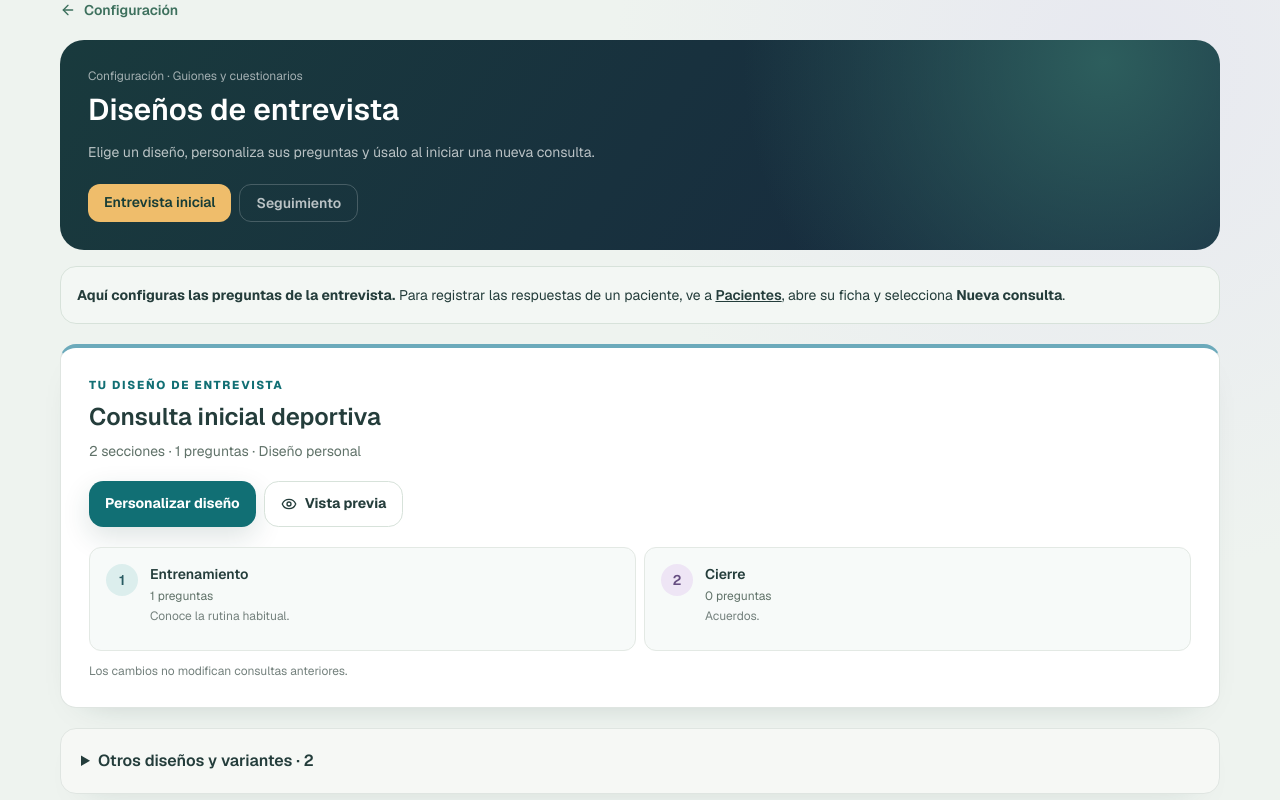
Test: catálogo profesional de plantillas › starts with the real section flow and opens the same question component in preview
Expected: the heading "Diseños de entrevista" is shown, [88,90,399,129]
Expected: the element named "Dónde registrar los datos del paciente" shows "Nueva consulta", [956,286,1062,304]
Step 1. Click the button "Vista previa" → (334, 504), box [264,481,403,527]
(page scrolled)
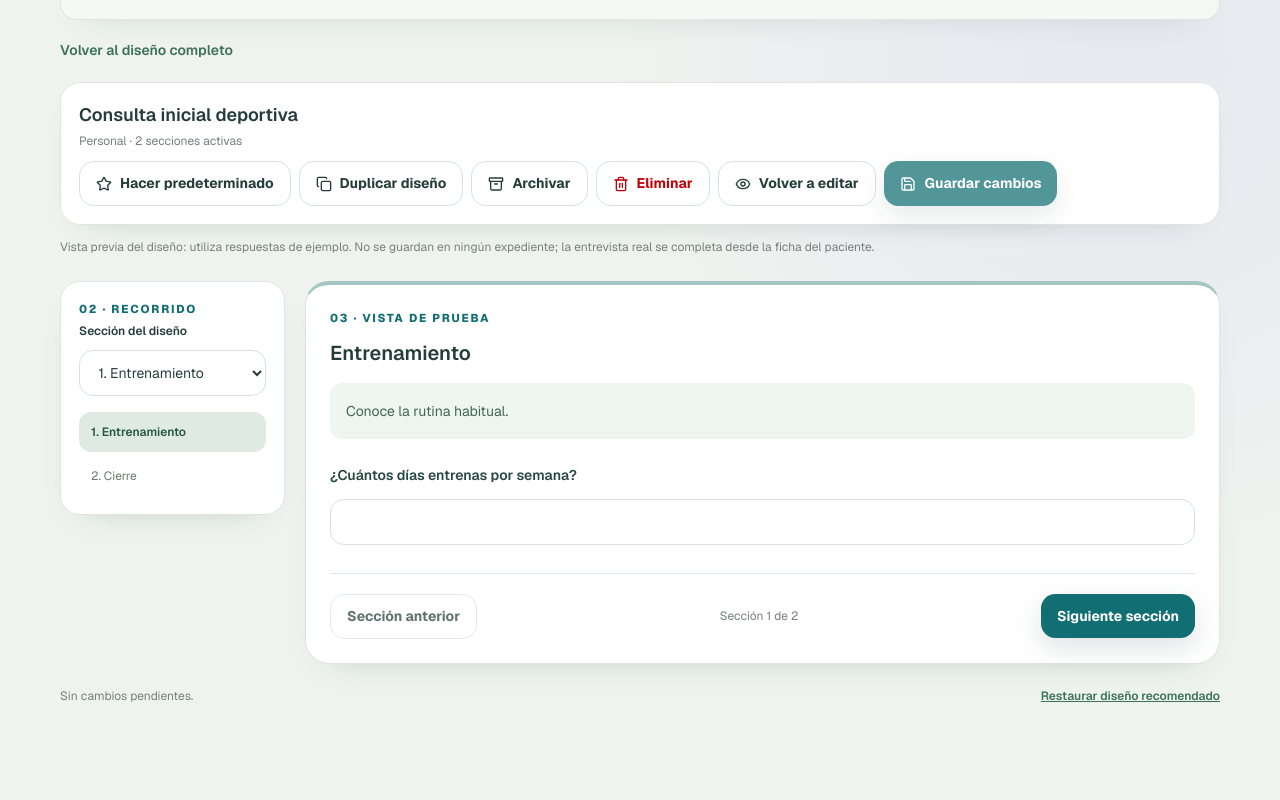
Expected: the text "Vista previa del diseño: utiliza respuestas de ejemplo" is shown, [60,239,874,255]
Step 2. Type "3" into the number field labelled "¿Cuántos días entrenas por semana?" → (762, 522), box [330,499,1195,544]
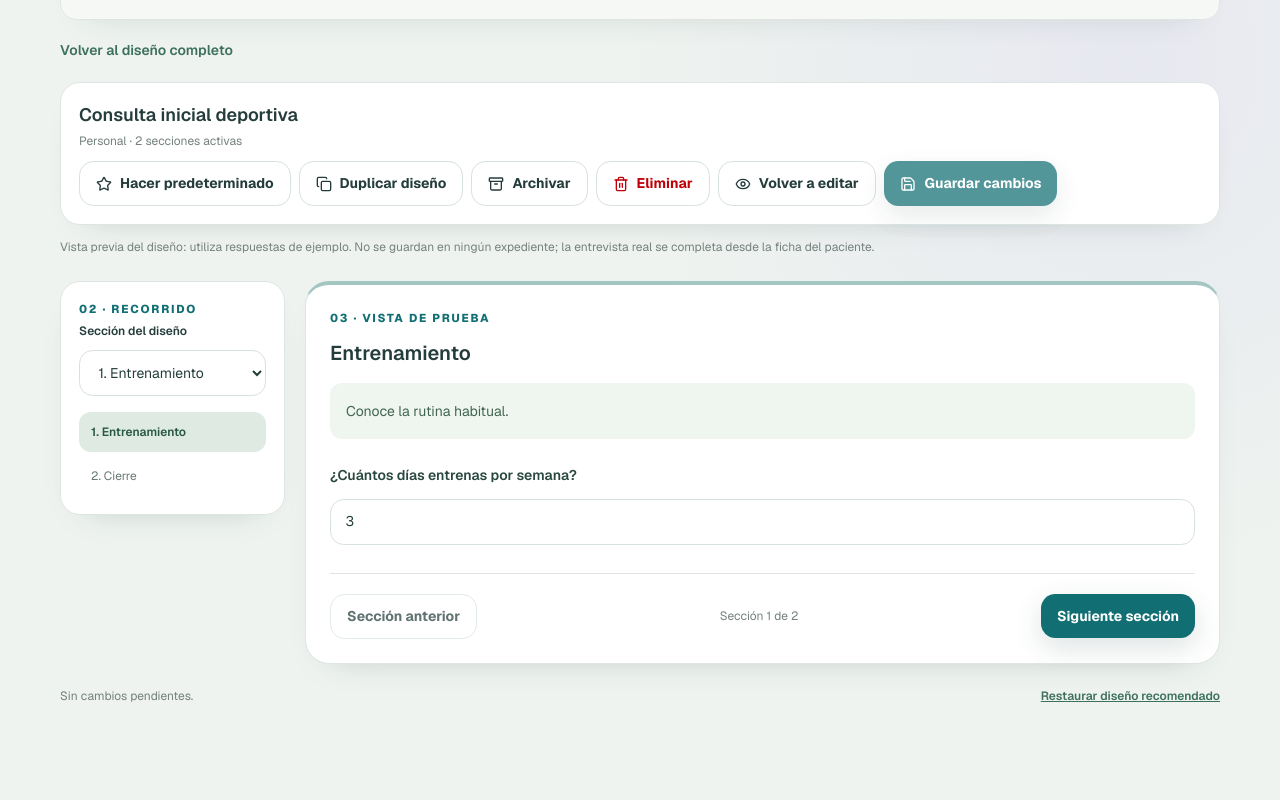
Step 3. Click the button "Volver al diseño completo" → (146, 50), box [60,40,233,60]
(page scrolled)
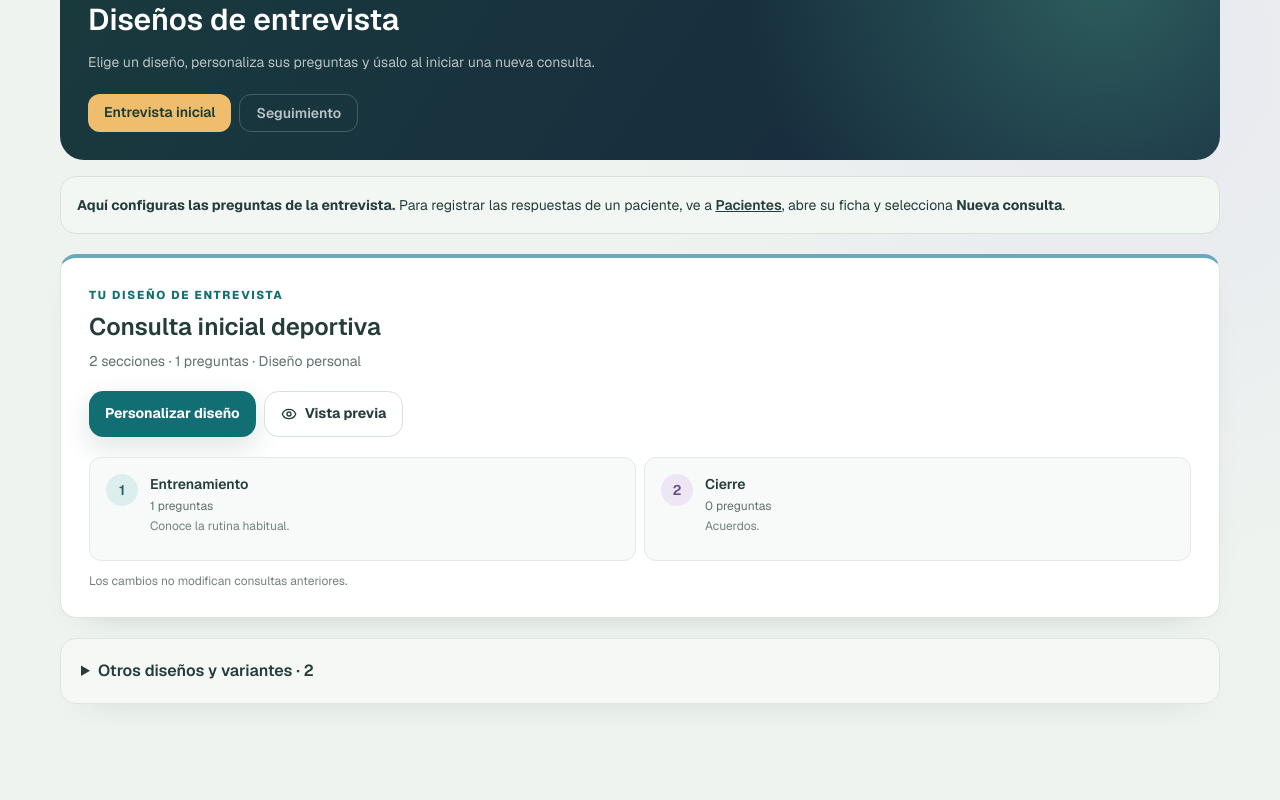
Expected: the element "Tu diseño de entrevista" is shown, [60,254,1220,618]
